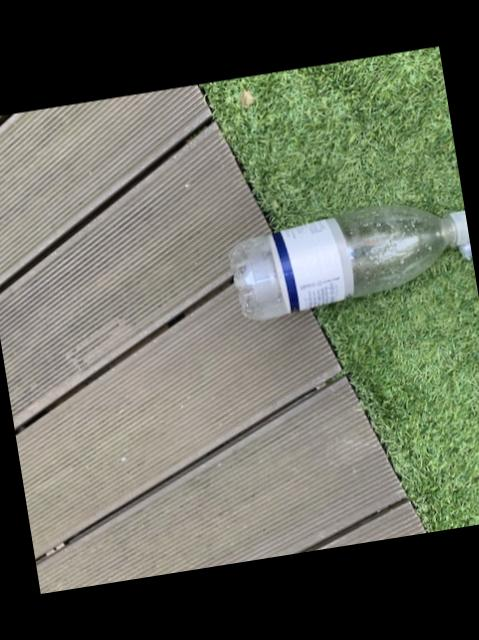plastic: (226, 204, 472, 318)
